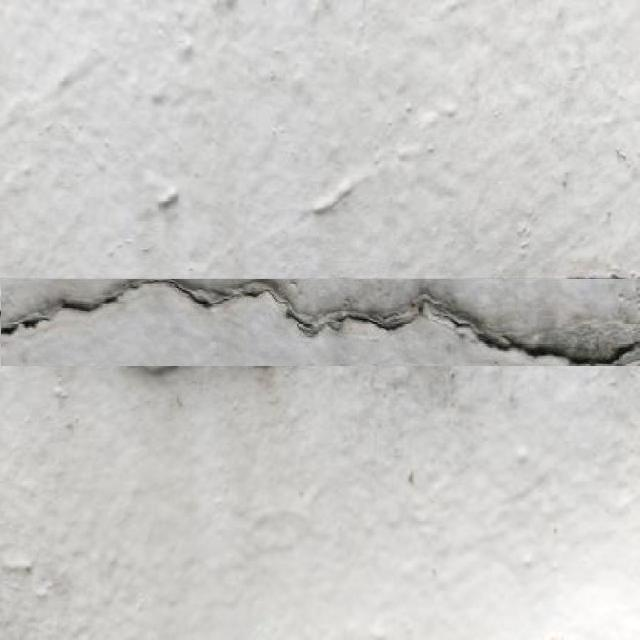Crack: (0, 275, 639, 368)
